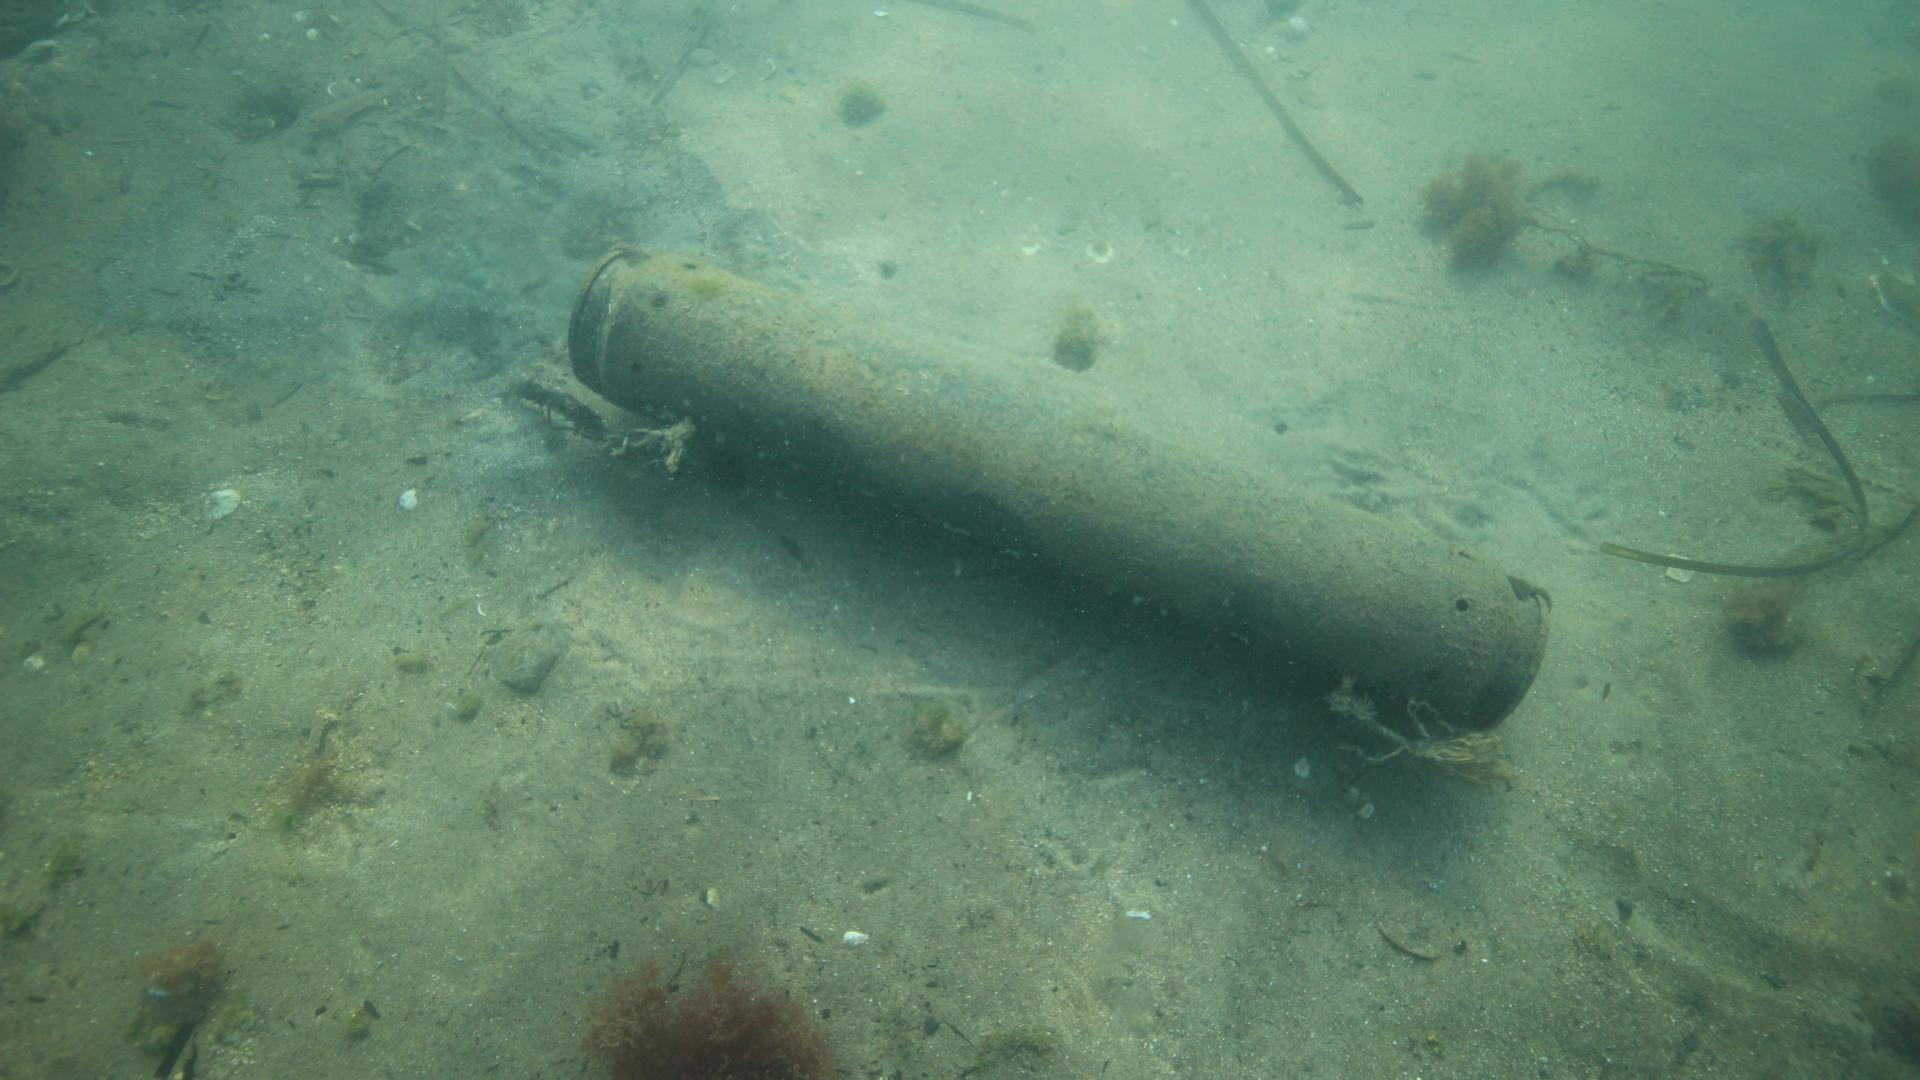eel fish trap: (560, 243, 1553, 738)
